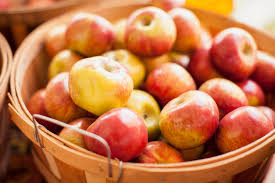apple: (83, 108, 148, 162), (69, 59, 134, 107), (159, 93, 216, 143), (211, 27, 264, 78), (220, 104, 273, 153), (66, 12, 120, 54), (126, 8, 178, 50), (147, 62, 197, 96)
